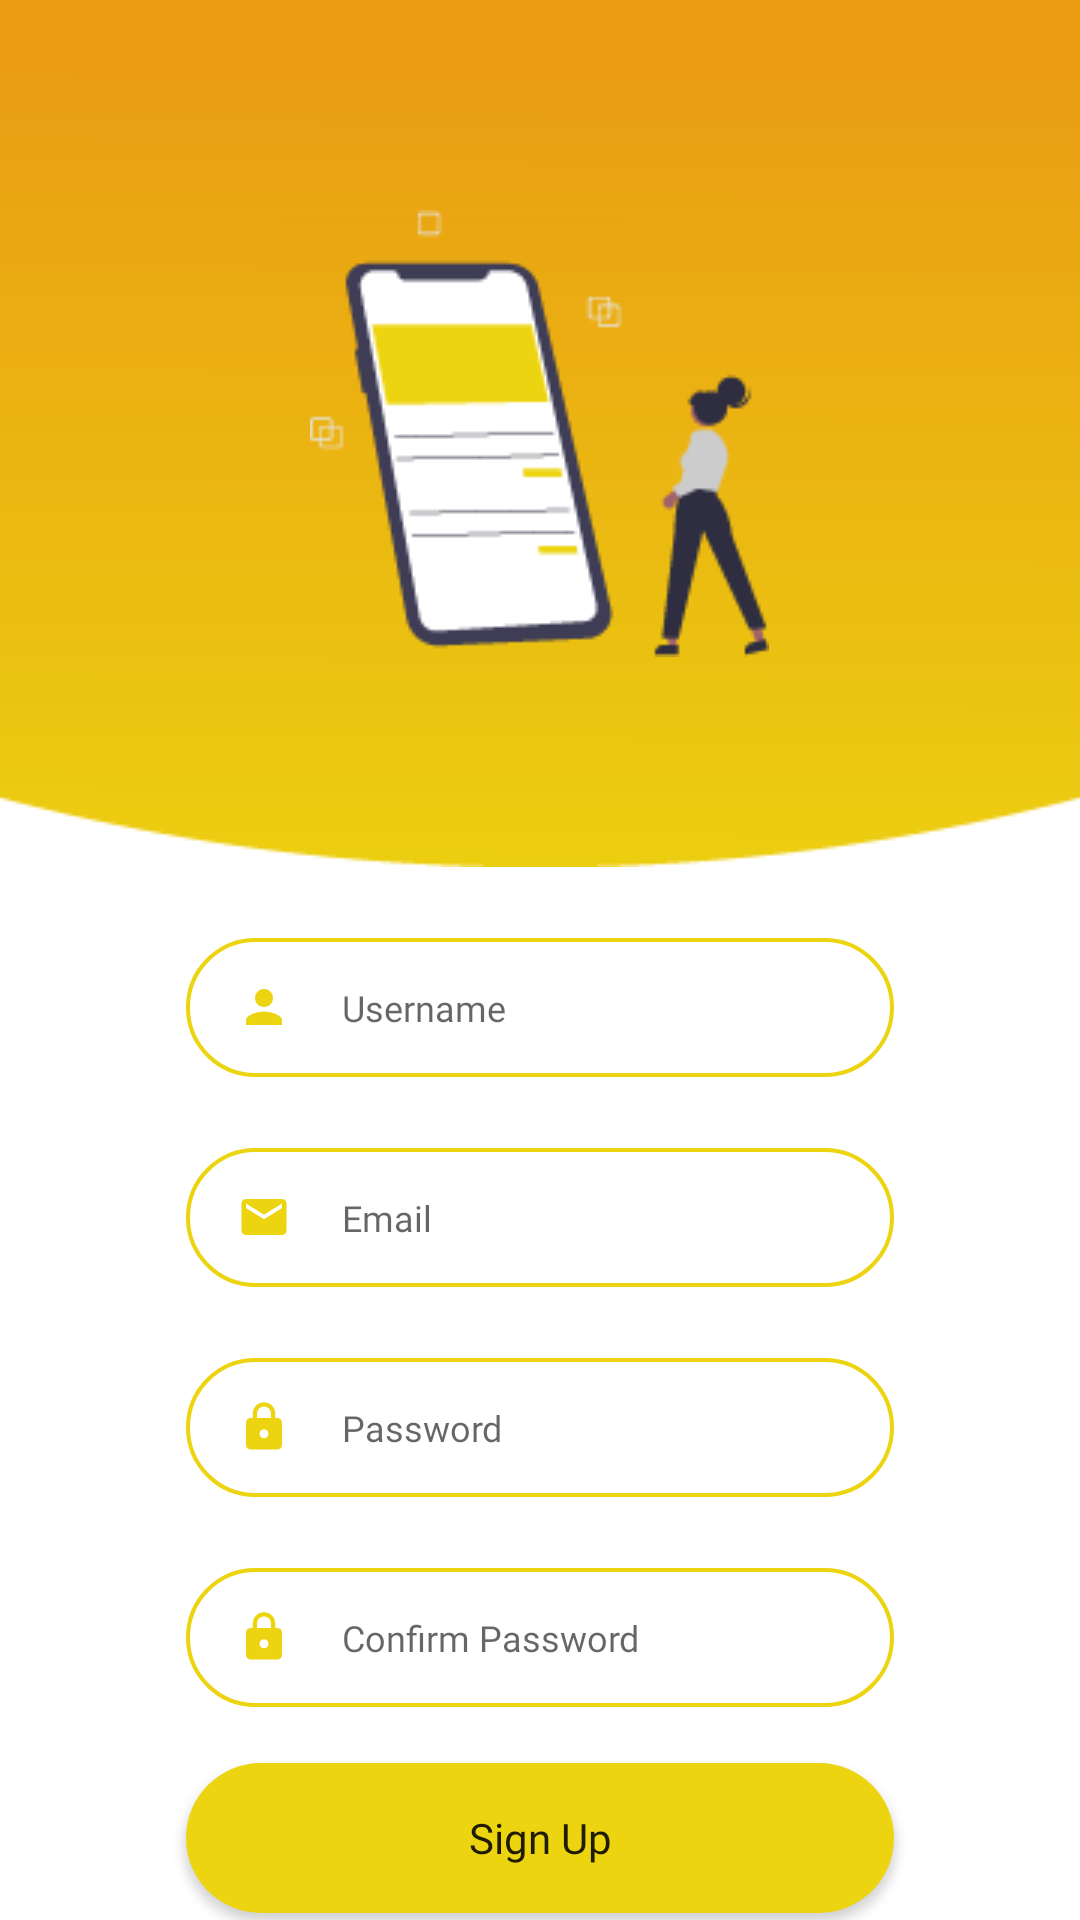

Icons on this 1080w x 1920h Android screen, each with its box as (x1, y1, x2, y2):
lock: (246, 1402, 282, 1450), (246, 1612, 282, 1660)
person: (246, 989, 282, 1025)
